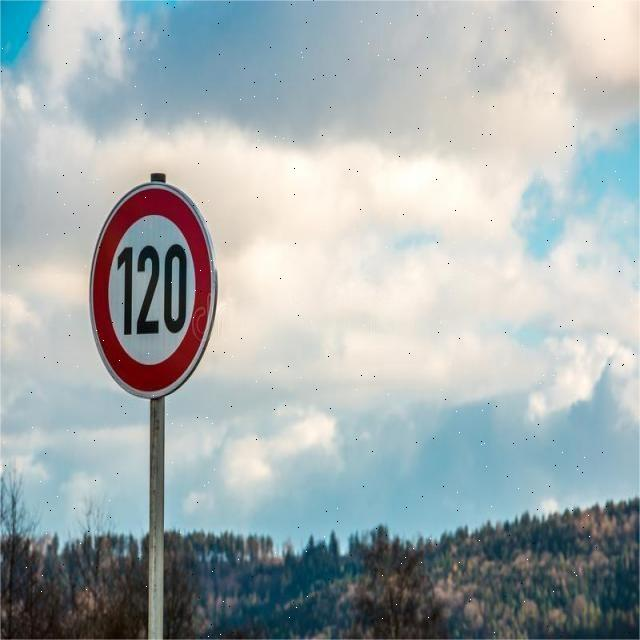speed limit 120: (87, 182, 218, 399)
